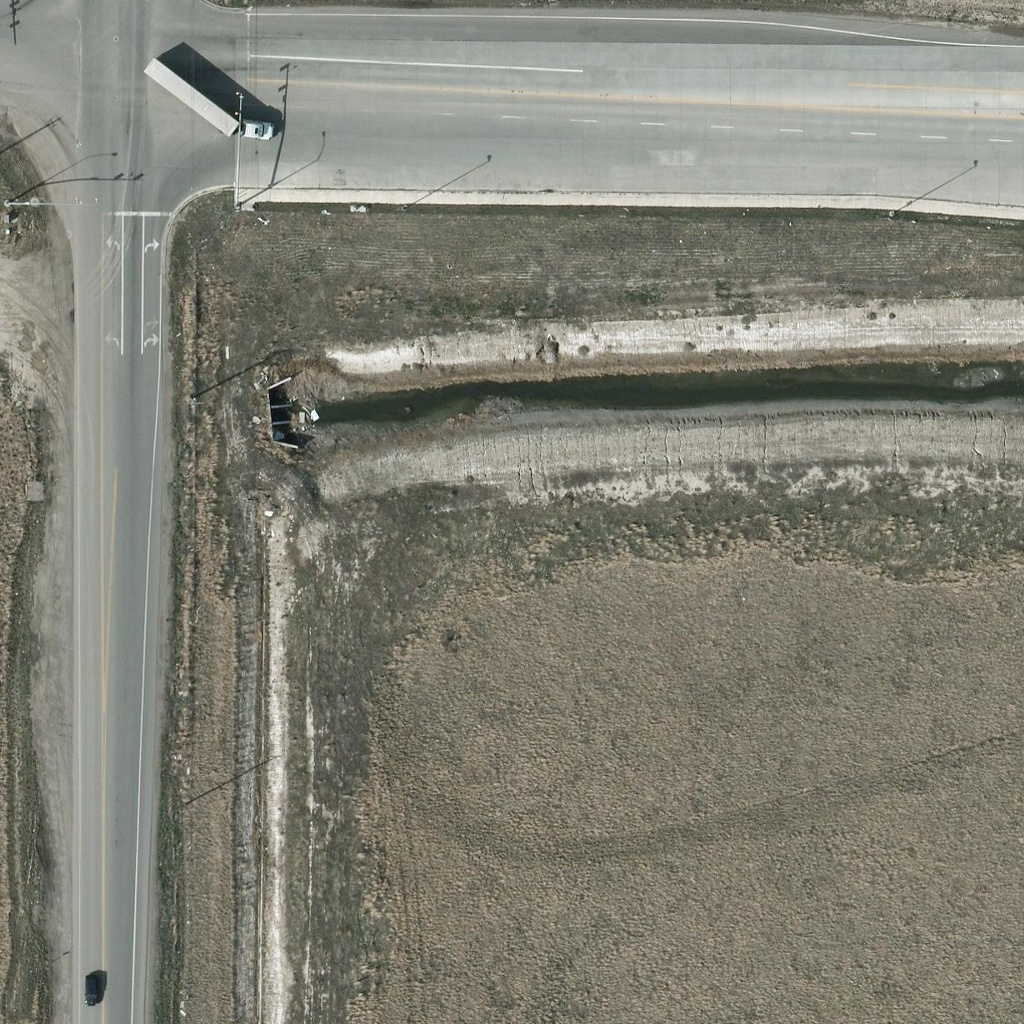car: (82, 973, 99, 1007)
truck: (145, 55, 273, 141)
